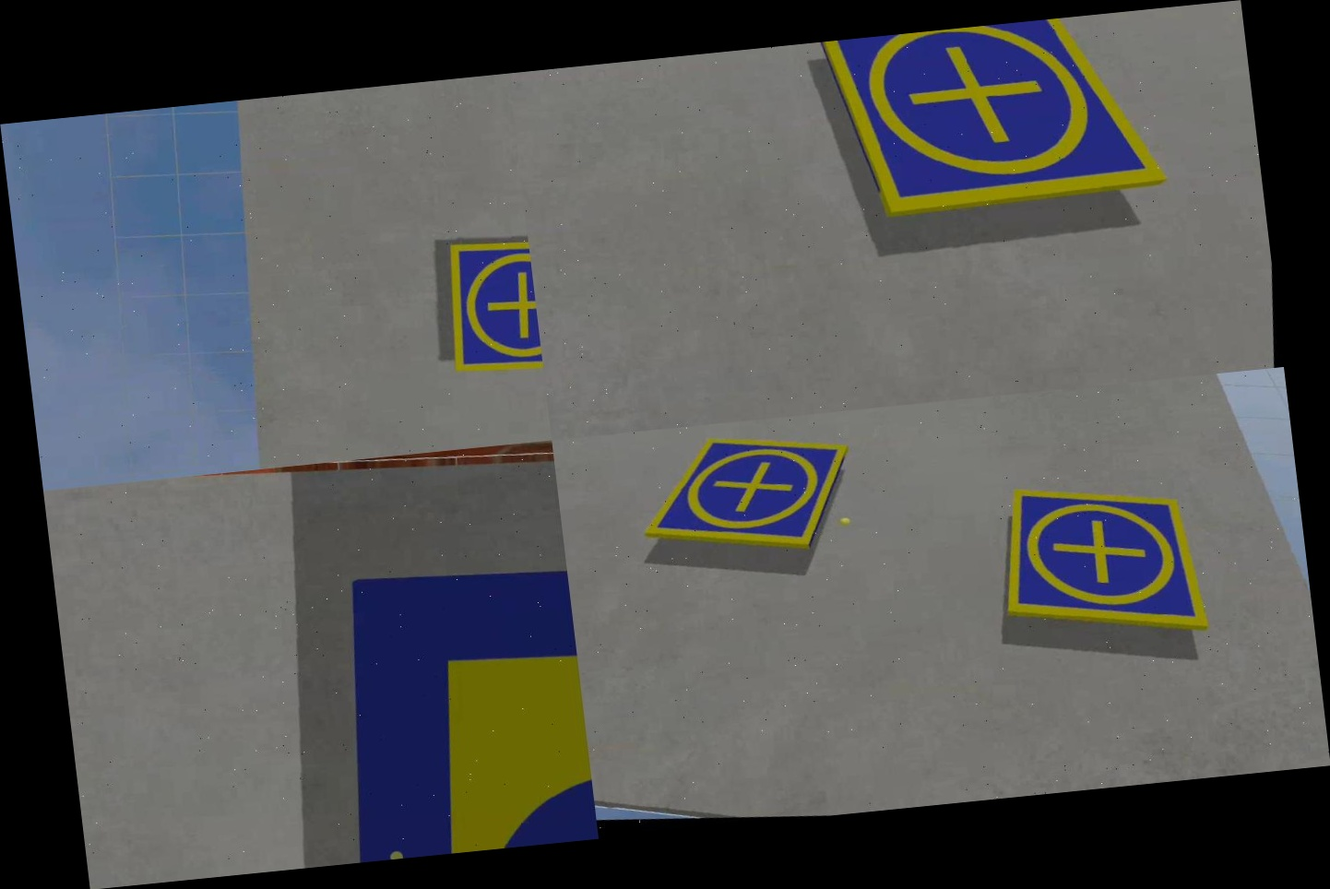large_base: (307, 547, 599, 864)
small_base: (796, 7, 1192, 248), (988, 466, 1227, 650), (630, 416, 861, 568), (437, 231, 544, 384)
